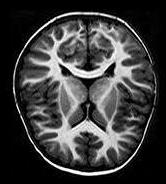Normal_Brain: (2, 1, 166, 184)
